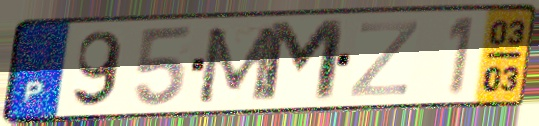1: (445, 13, 476, 99)
5: (132, 23, 196, 109)
9: (69, 28, 124, 110)
M: (255, 17, 349, 107), (194, 23, 280, 106)
Z: (345, 18, 423, 100)
